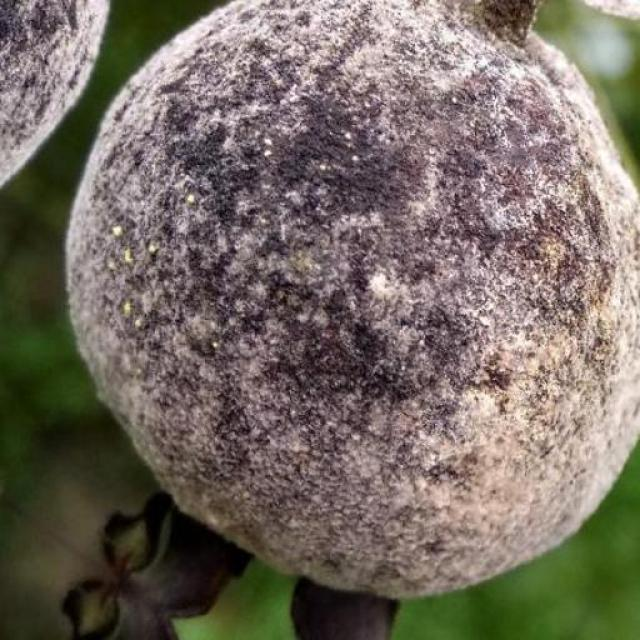Phytopthora: (68, 0, 640, 598)
